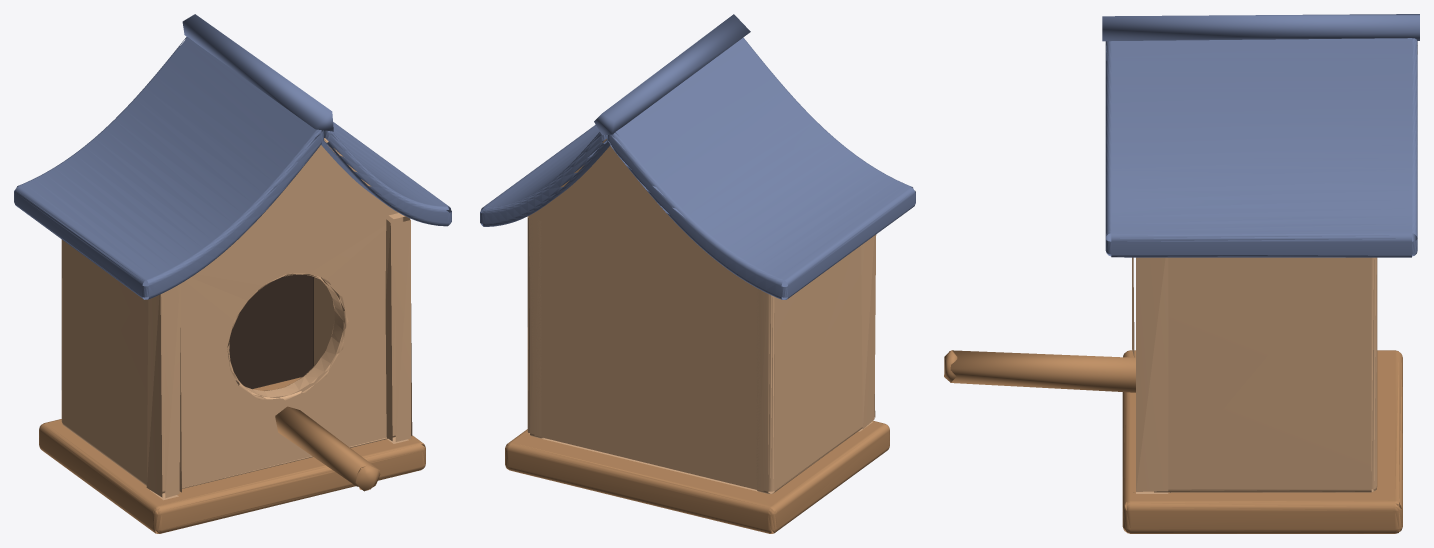
The model's file is birdhouse.glb.
The picture shows the model from 3 angles, left to right: view 1: azimuth 30°, elevation 25°; view 2: azimuth 150°, elevation 25°; view 3: azimuth 270°, elevation 25°; orthographic projection. The views are drawn at different scales.
Parts seen in each view (by area): view 1: Birdhouse_120_Percent; view 2: Birdhouse_120_Percent; view 3: Birdhouse_120_Percent.
Part boxes in pixels (<box>): Birdhouse_120_Percent: <box>14,14,451,533</box>; Birdhouse_120_Percent: <box>480,14,915,533</box>; Birdhouse_120_Percent: <box>944,14,1419,533</box>.
Size of the model in its own units: 2.24 by 2.72 by 2.54.
